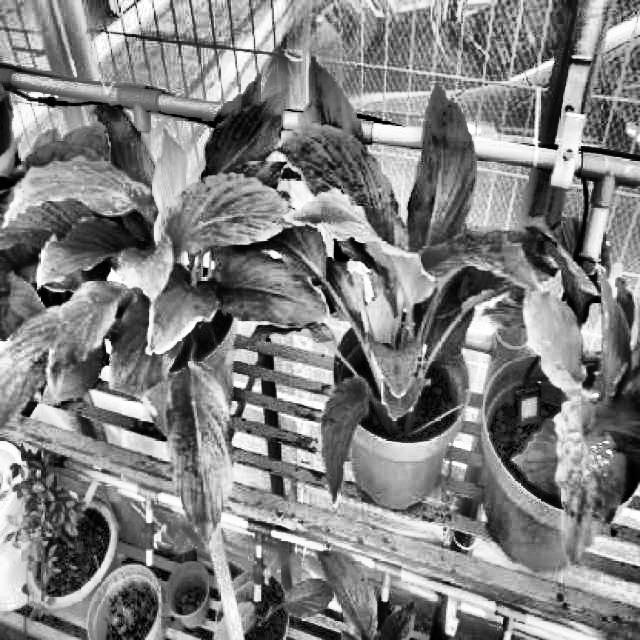plants: (2, 69, 330, 551), (263, 54, 546, 508), (478, 217, 640, 571)
